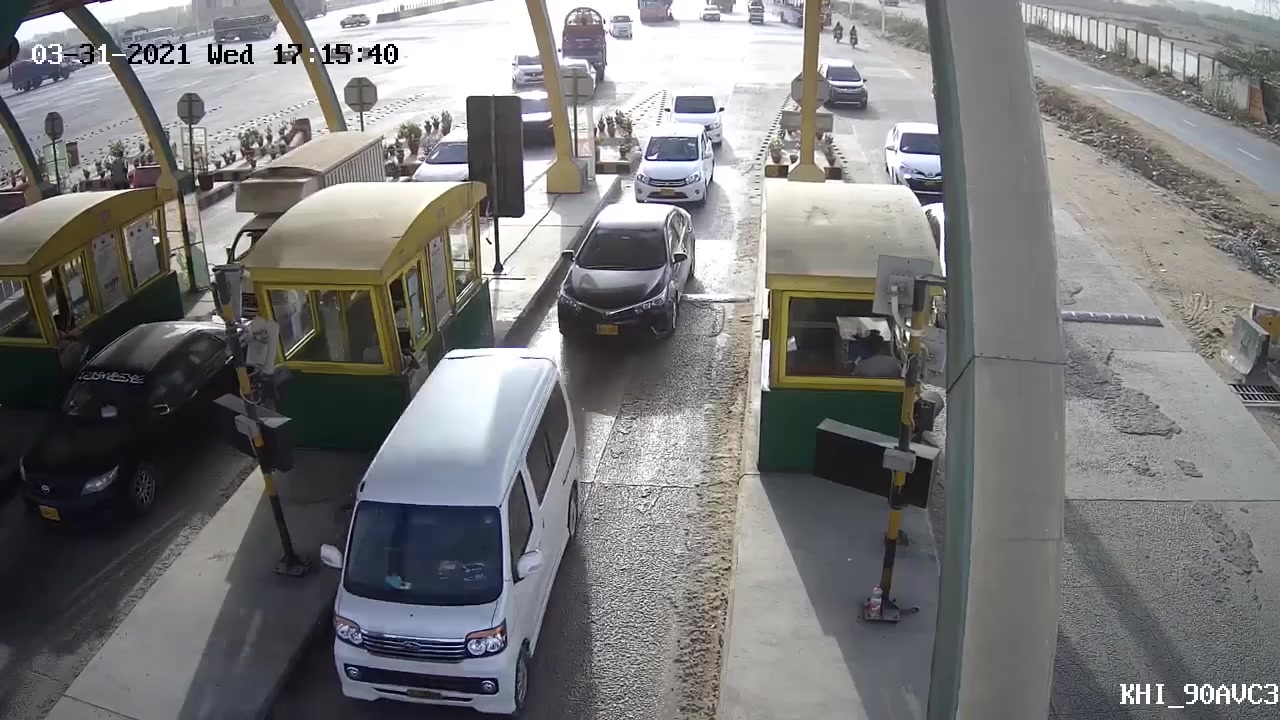F1: (312, 343, 594, 720), (544, 196, 704, 357)
